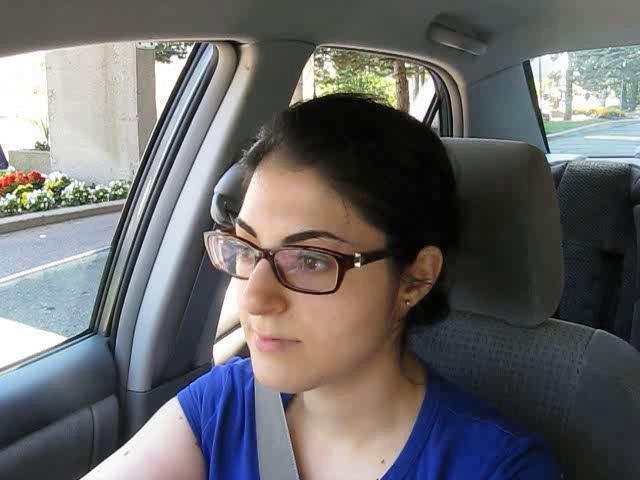no_yawn: (237, 324, 307, 362)
open_eyeL: (221, 227, 267, 290)
open_eyeR: (282, 242, 349, 286)
